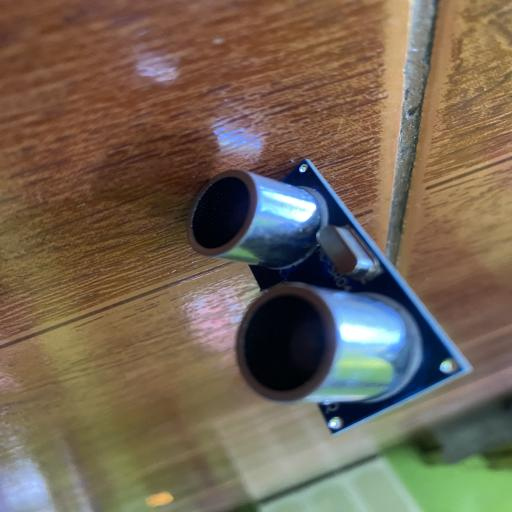Ultrasonic Sensor: (184, 153, 474, 437)
